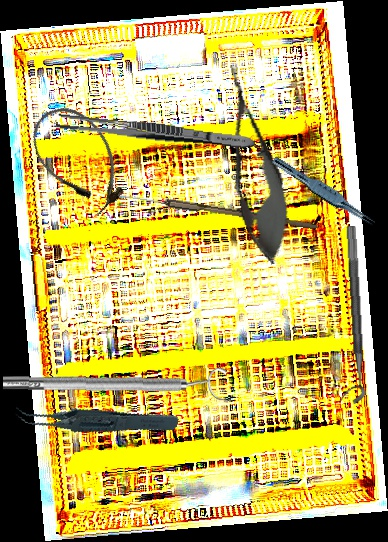Cannula: (18, 93, 141, 225)
Dressing Forceps: (55, 112, 256, 152)
Fixation Ring: (2, 363, 227, 403), (331, 225, 367, 406)
Micro Scissor: (208, 58, 301, 270)
Surgical Spoon: (111, 190, 318, 230)
Tissue Forceps: (12, 371, 180, 464), (267, 155, 380, 229)
